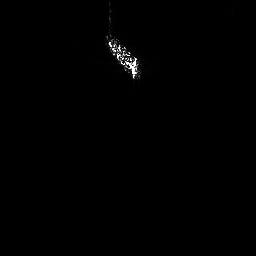ship: (102, 30, 142, 82)
